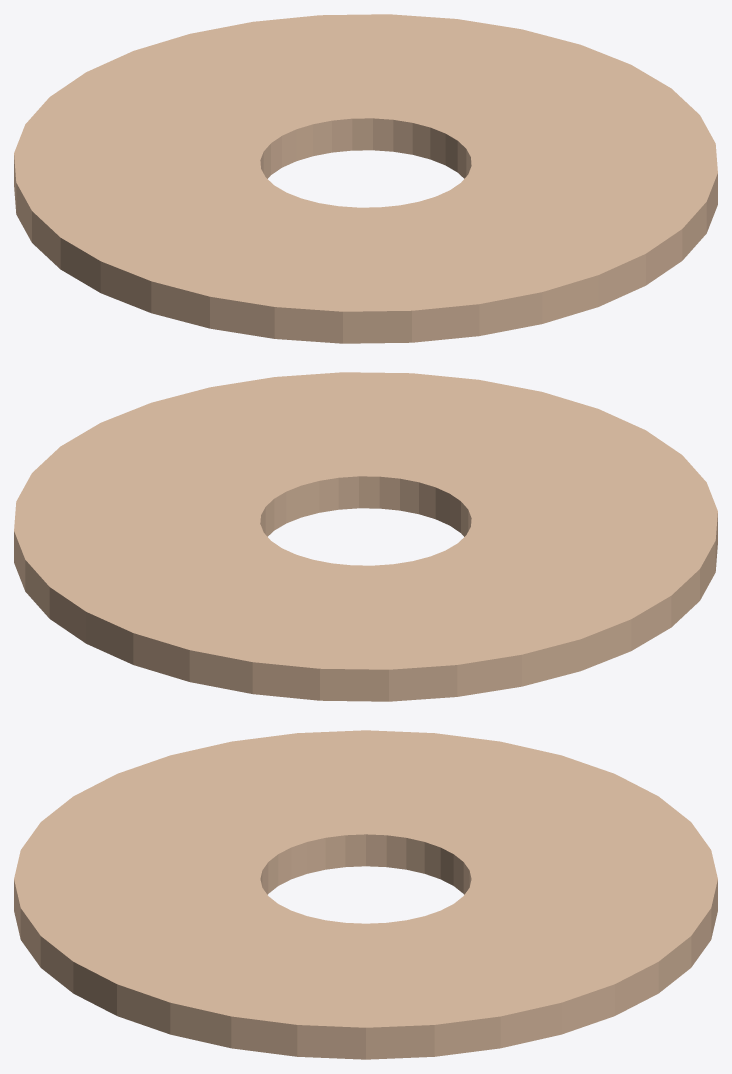
Rendered from webotsStand3.dae.
3 renders of one model, top to bottom at view 1: azimuth 30°, elevation 25°; view 2: azimuth 150°, elevation 25°; view 3: azimuth 270°, elevation 25°, orthographic.
Parts seen in each view (by area): view 1: Cylinder; view 2: Cylinder; view 3: Cylinder.
Part boxes in pixels (x1,y1,x2,y2): Cylinder: (14,14,717,343); Cylinder: (14,372,717,701); Cylinder: (14,730,717,1059).
Bounding box in the file's own units: 0.05 × 0.05 × 0.0025.
